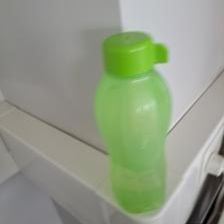bottle: (95, 27, 172, 213)
